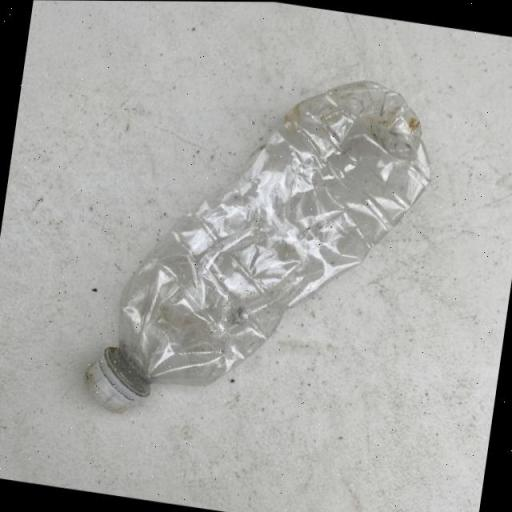plastic: (80, 44, 444, 454)
